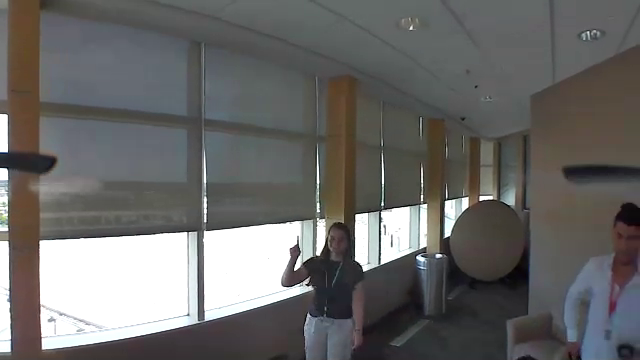up: (287, 233, 304, 259)
